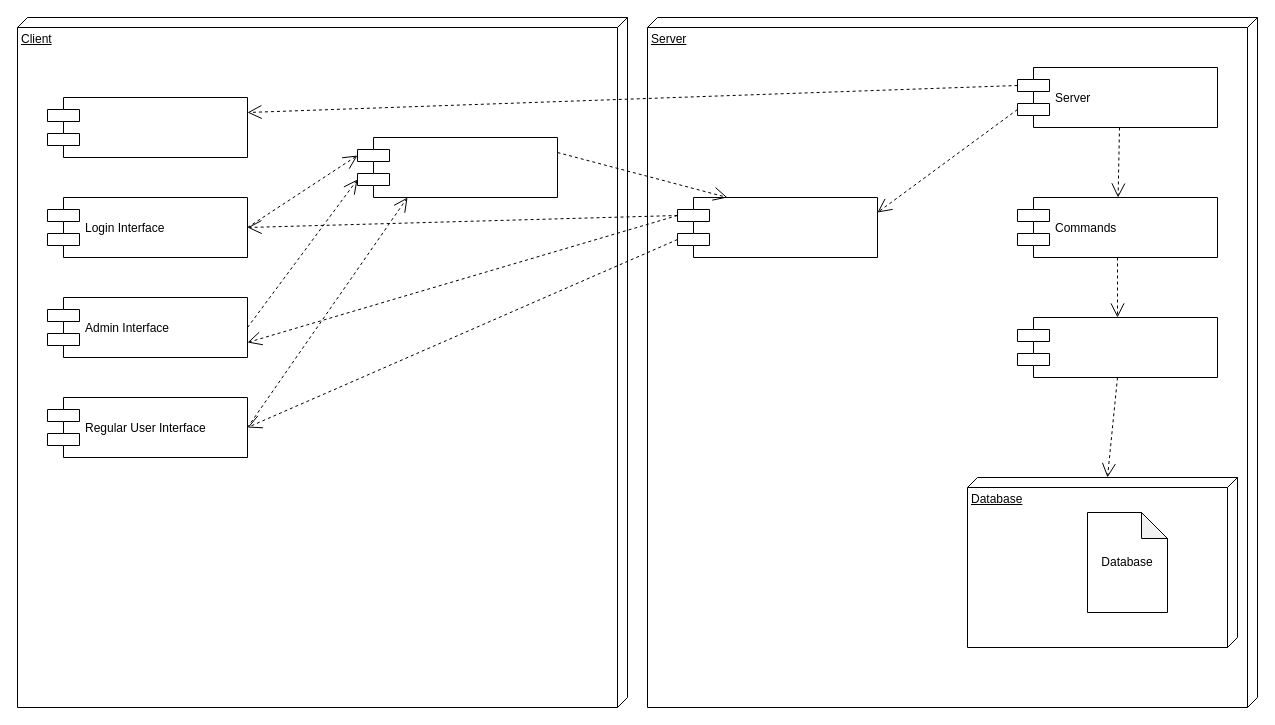
Image size: 1275x725. Some labels were removed from this diagram. Each missing label, with the centre of its shape:
Model: point (147, 127)
ServerListener: point (457, 167)
ServerToClientConnection: point (777, 227)
Table Data Gateway: point (1117, 347)
